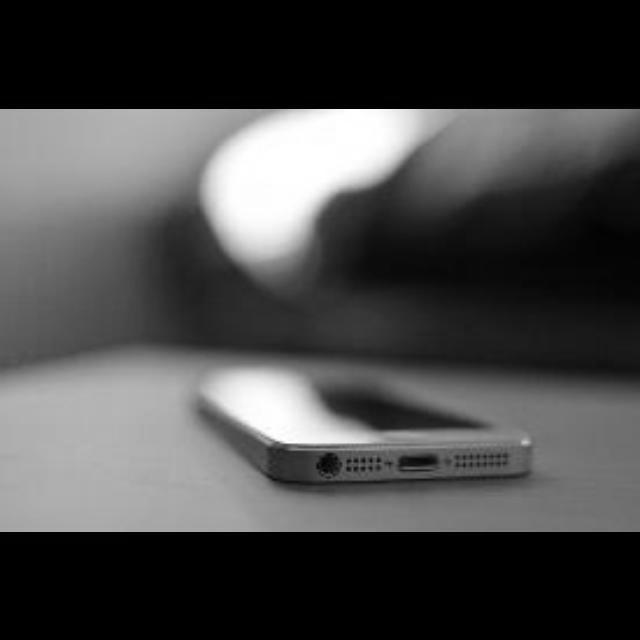fake: (166, 352, 564, 500)
